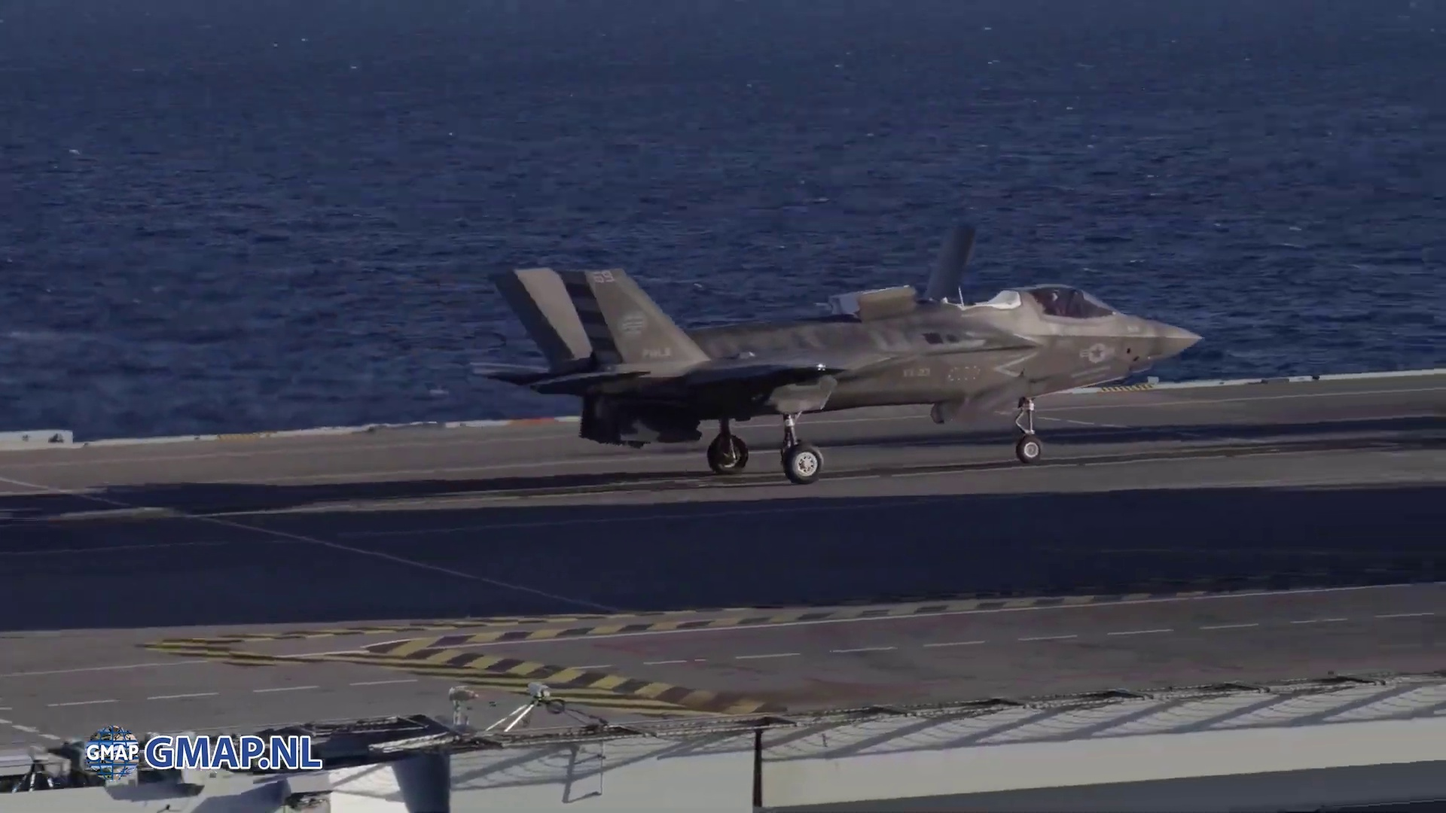F35: (456, 201, 1213, 497)
